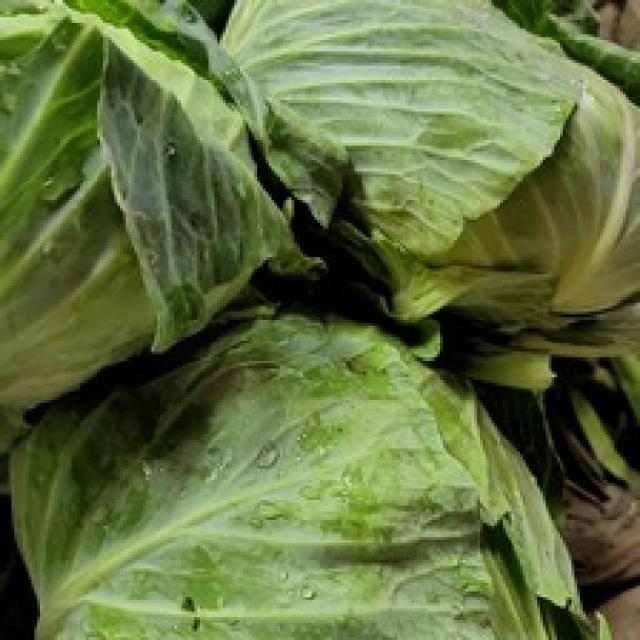Cabbage: (0, 0, 637, 323), (0, 323, 557, 640)
